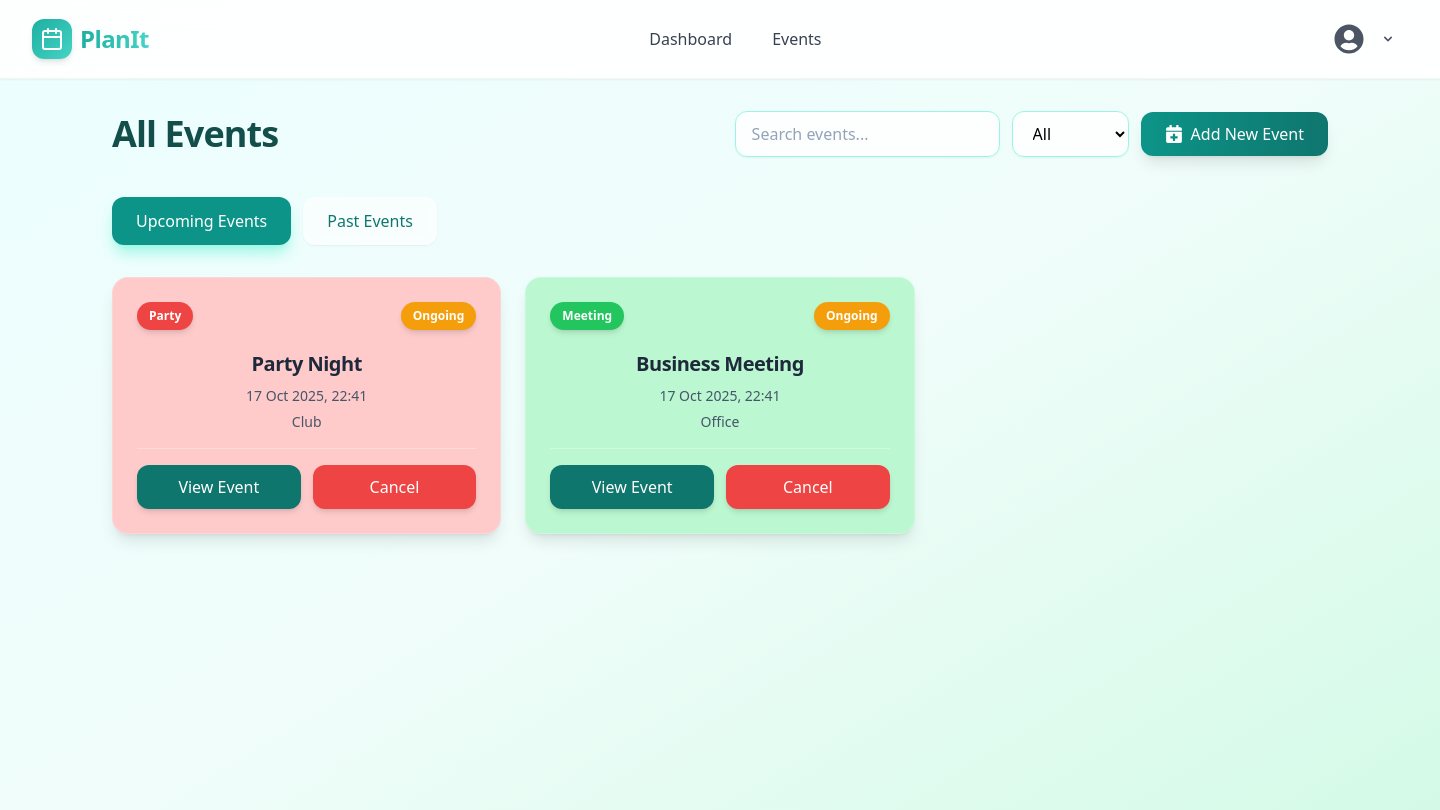
it: EventsPage › filters events based on search term
Expected: the heading "Party Night" is shown, [252,350,362,377]
Type "business" into the field with placeholder "Search events..." at (867, 134), box [735,111,1000,157]
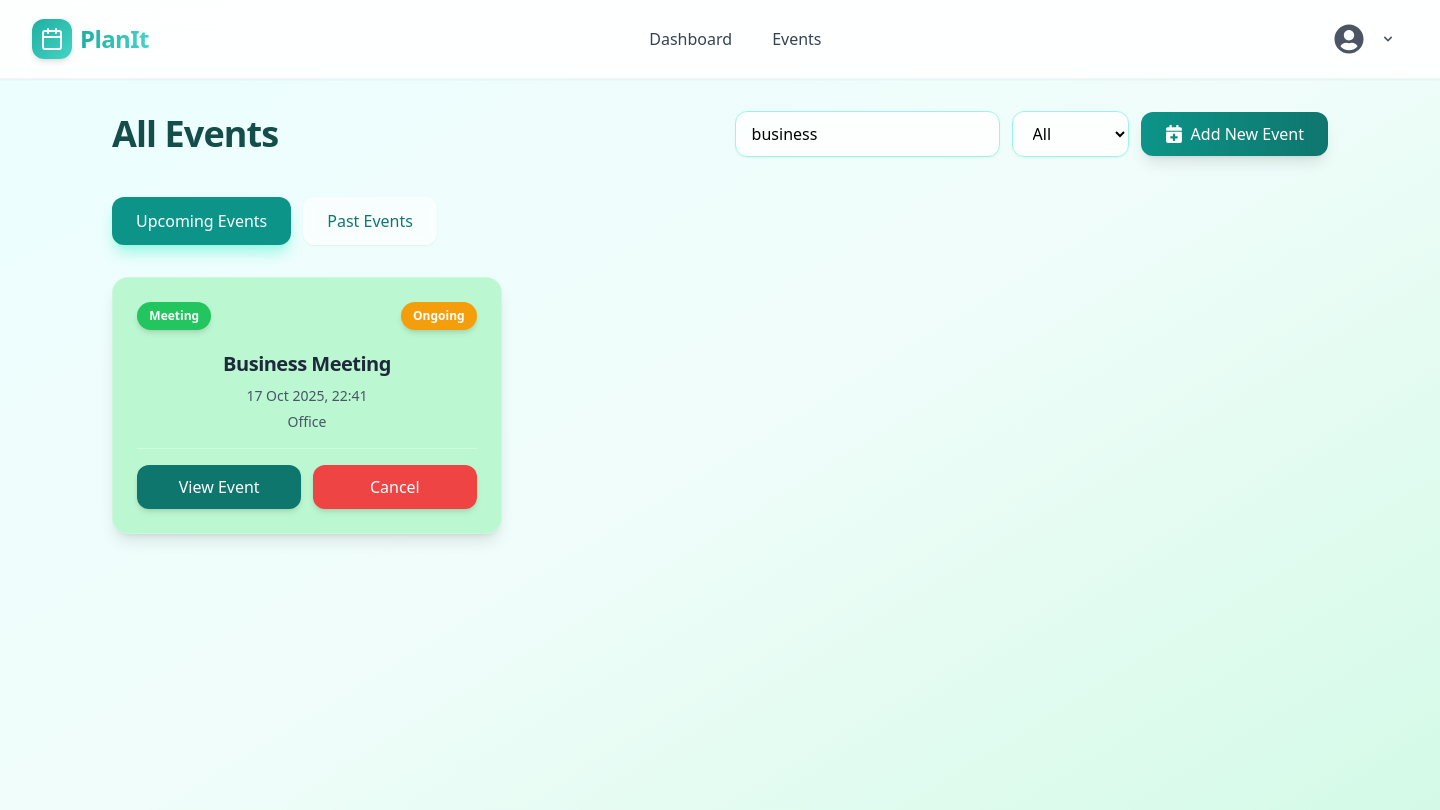
Expected: the heading "Business Meeting" is shown, [223,350,391,377]
Now the heading "Party Night" is gone
